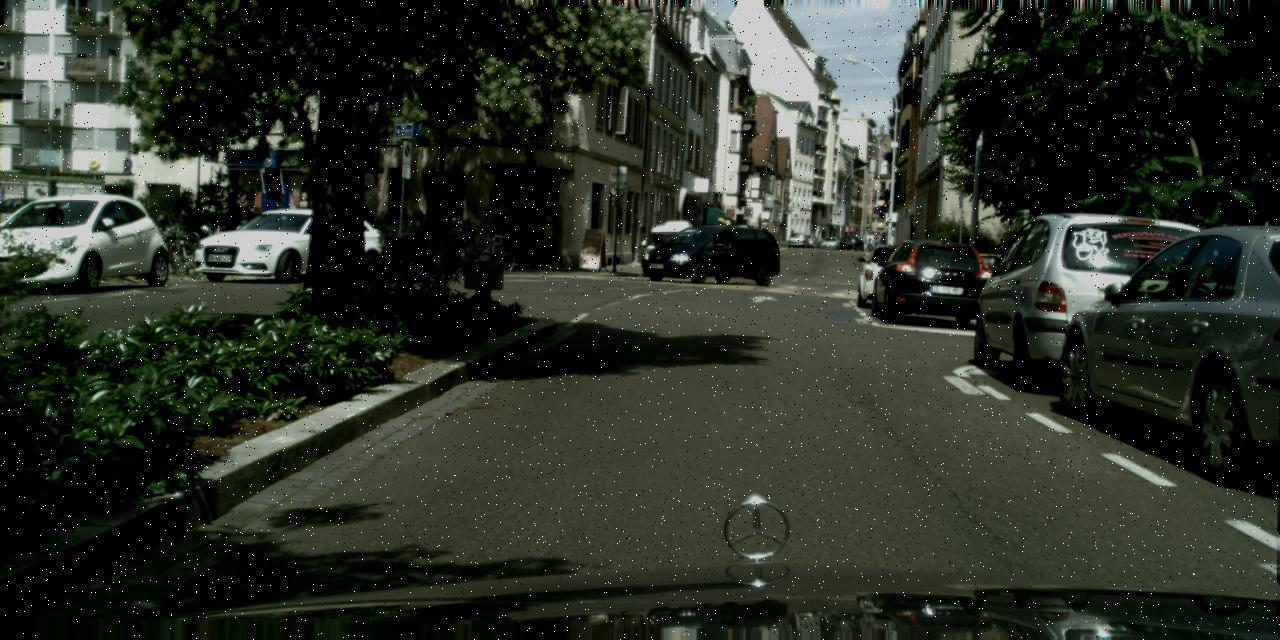ped: (874, 230, 884, 253)
